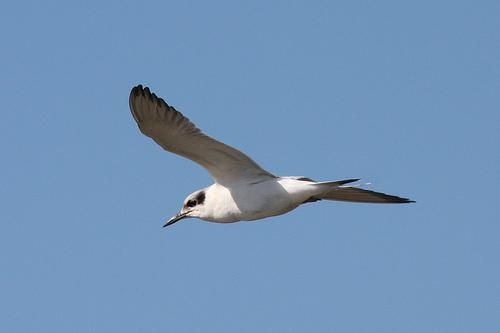bird: (124, 85, 417, 233)
